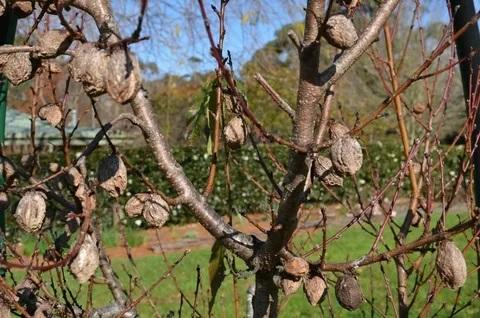mummified_fruits: (69, 43, 106, 96), (106, 46, 139, 103), (437, 240, 466, 289), (70, 234, 98, 283), (14, 192, 45, 231), (330, 137, 362, 174), (98, 154, 126, 196), (324, 14, 357, 48), (4, 52, 38, 84), (335, 274, 362, 310), (144, 194, 168, 227), (223, 116, 246, 149), (305, 274, 325, 305), (125, 193, 150, 216), (284, 257, 308, 277), (313, 157, 332, 179), (281, 275, 300, 295)
